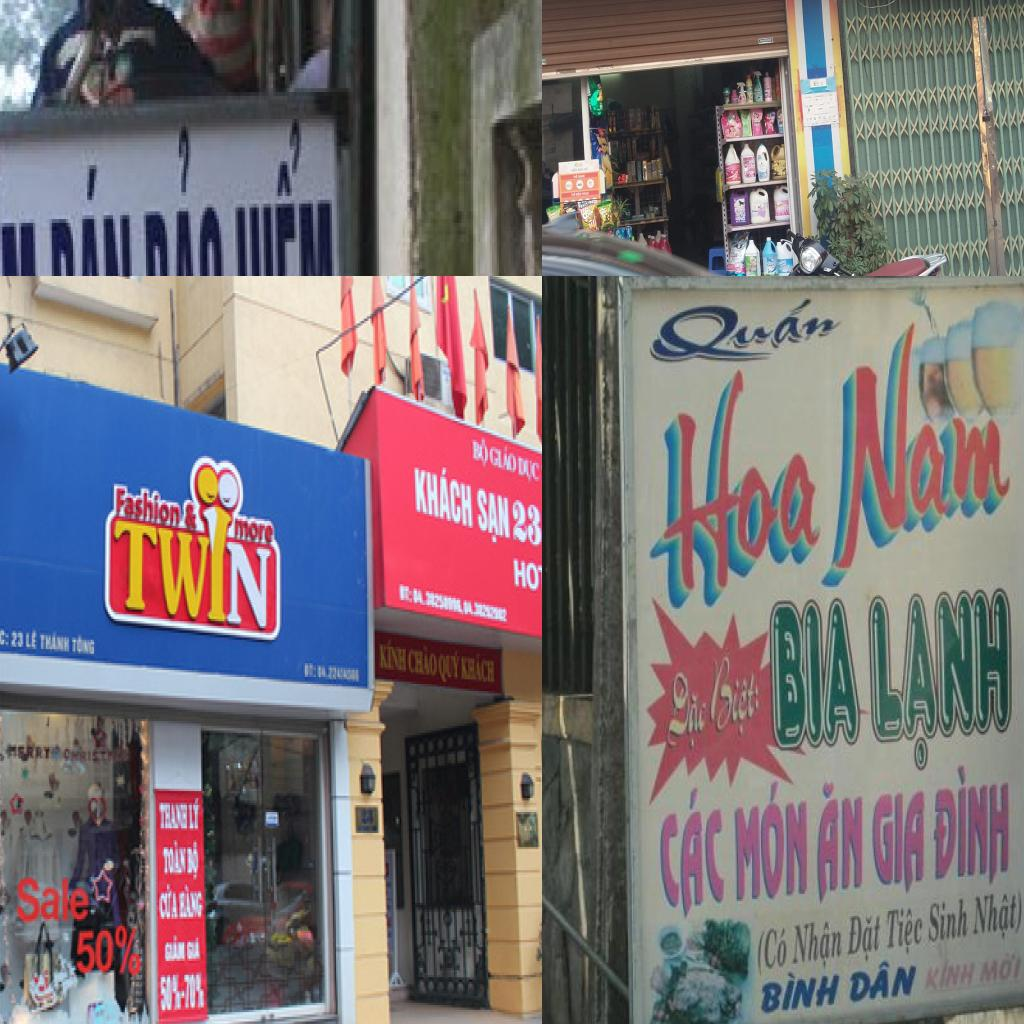text: (821, 324, 1024, 592), (632, 368, 826, 619), (863, 582, 1016, 780), (225, 111, 341, 276), (642, 292, 846, 368), (768, 599, 864, 752), (136, 119, 228, 276), (42, 157, 138, 276), (930, 761, 1016, 892), (652, 783, 728, 923), (730, 778, 811, 907), (114, 519, 214, 623), (811, 776, 867, 906), (872, 783, 928, 896), (471, 437, 542, 507), (710, 652, 765, 740), (414, 458, 476, 535), (226, 540, 275, 635), (760, 967, 846, 1017), (15, 873, 92, 926), (203, 503, 235, 628), (74, 924, 142, 980), (846, 958, 924, 1006), (666, 667, 708, 756), (114, 482, 184, 530), (792, 914, 847, 972), (972, 890, 1024, 943), (476, 480, 513, 552), (884, 901, 926, 962), (928, 894, 974, 948), (922, 957, 979, 995), (847, 907, 884, 964), (754, 922, 790, 980), (159, 972, 207, 1014), (511, 495, 542, 553), (976, 950, 1024, 987), (513, 556, 542, 605), (460, 652, 499, 688), (235, 516, 277, 547), (378, 637, 409, 677), (6, 742, 52, 766), (409, 642, 438, 679), (162, 840, 189, 879), (159, 800, 189, 833), (179, 884, 204, 922), (438, 647, 462, 686), (40, 630, 72, 658), (159, 882, 179, 924), (72, 630, 97, 661), (165, 935, 187, 966), (187, 842, 201, 882), (184, 498, 199, 533), (186, 935, 202, 966), (24, 626, 40, 654), (189, 796, 201, 833), (302, 658, 319, 682), (398, 582, 414, 607), (12, 628, 26, 652), (0, 625, 11, 649), (580, 209, 594, 222), (586, 213, 594, 224), (570, 168, 578, 174), (582, 191, 590, 197), (752, 120, 760, 126), (576, 191, 582, 198), (767, 263, 775, 268), (578, 174, 585, 179), (578, 167, 584, 172), (570, 192, 576, 197), (573, 174, 578, 179), (584, 166, 588, 172)
